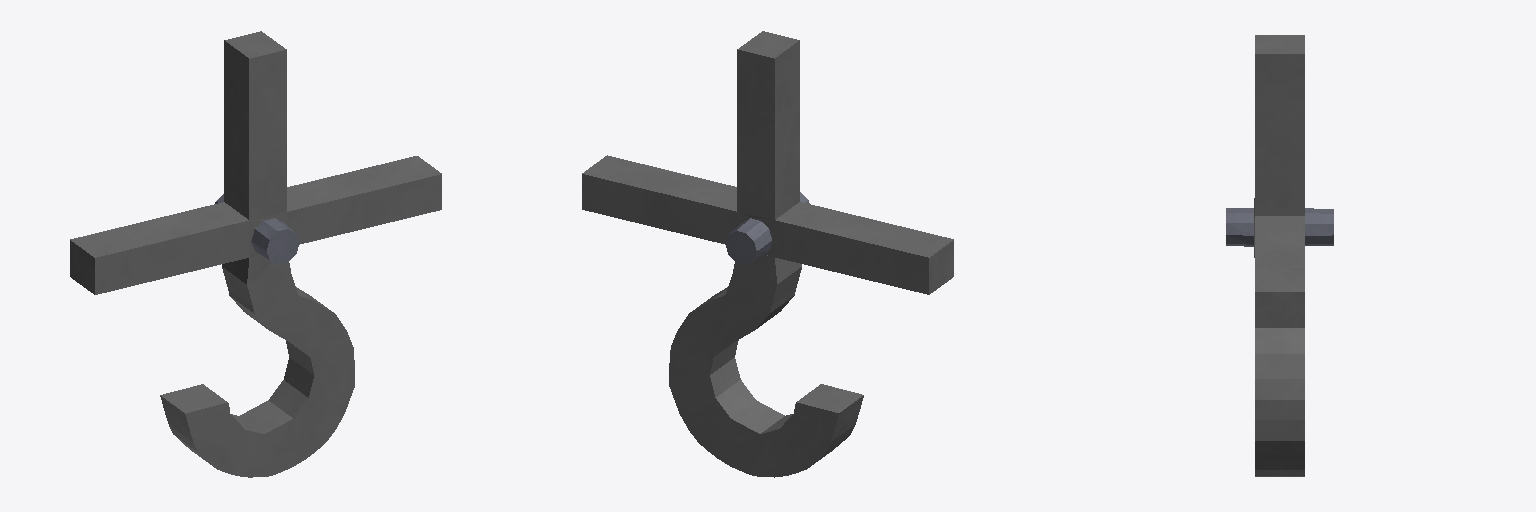
The picture shows the model from 3 angles: view 1: azimuth 30°, elevation 25°; view 2: azimuth 150°, elevation 25°; view 3: azimuth 270°, elevation 25°; orthographic projection.
Parts seen in each view (by area): view 1: hook; view 2: hook; view 3: hook.
Boxes of the visible parts, x1=… form: hook: x1=70, y1=31, x2=441, y2=477; hook: x1=582, y1=31, x2=953, y2=477; hook: x1=1226, y1=35, x2=1333, y2=476.
Size of the model in its own units: 7.96 by 9.25 by 2.16.
1 materials, 1 textured.